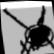not correct: (2, 3, 54, 54)
